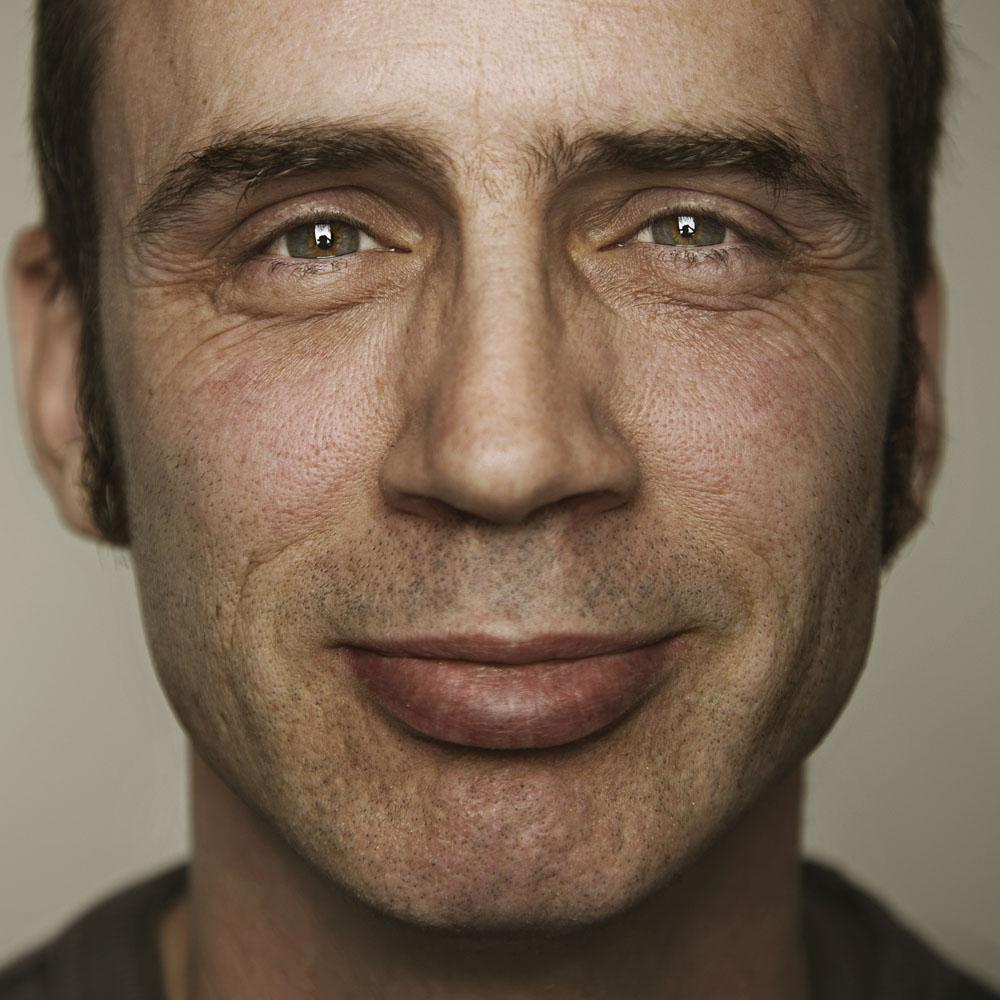Sober: (125, 0, 866, 887)
